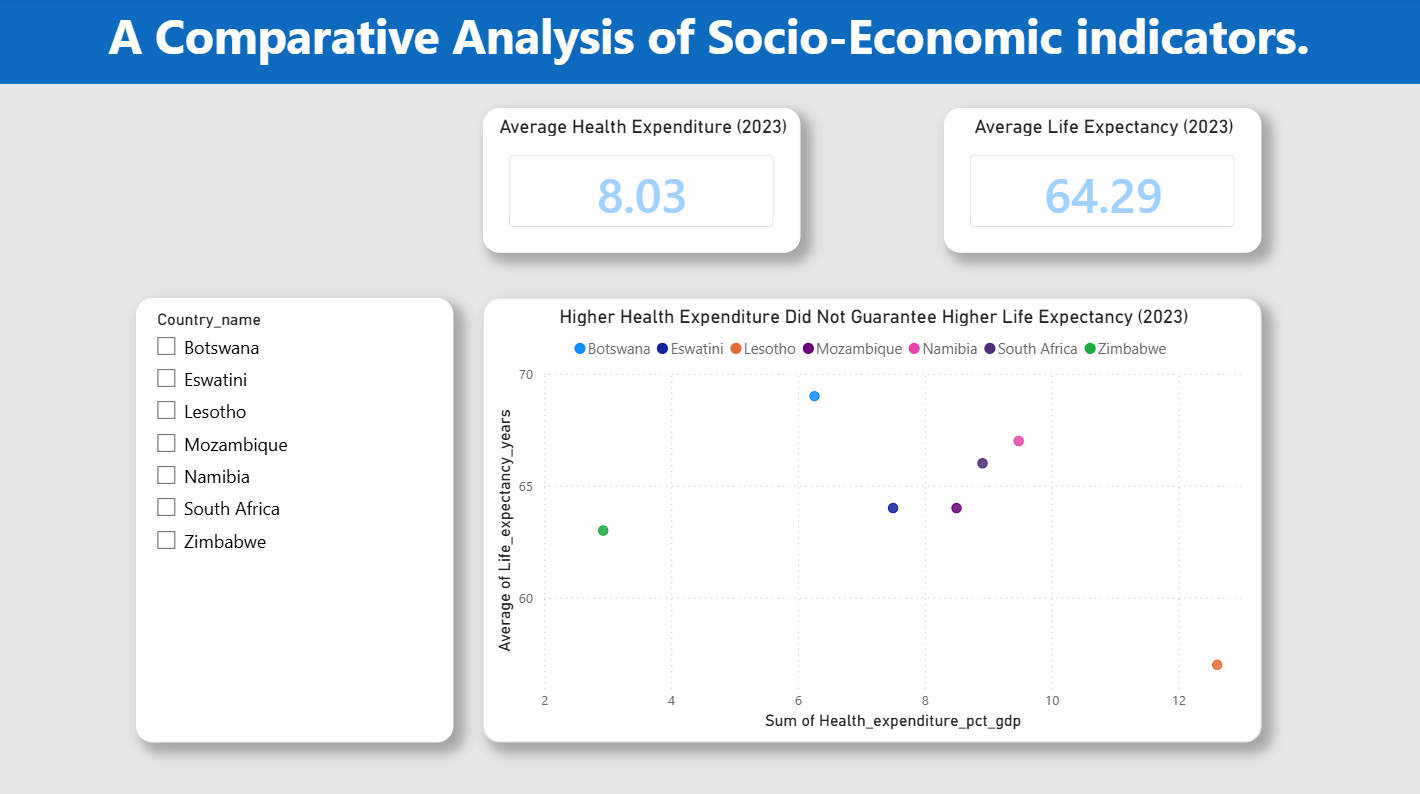

Layout of this report page (visuals, bound fields, positions):
{"tool":"powerbi","page":{"name":"Regional Health Expenditure","canvas":[1280,720],"ordinal":1},"visuals":[{"type":"textbox","box":[0,0,1280,77.8],"z":0},{"type":"cardVisual","title":"Average Health Expenditure (2023)","fields":{"Data":["Avg(population_health.Health_expenditure_pct_gdp)"]},"box":[437.2,100,285,130.3],"z":1000},{"type":"scatterChart","title":"Higher Health Expenditure Did Not Guarantee Higher Life Expectancy (2023)","fields":{"X":["Sum(population_health.Health_expenditure_pct_gdp)"],"Y":["Avg(population_health.Life_expectancy_years)"],"Series":["countries.Country_name"]},"box":[437.2,270.2,699.3,398.8],"z":2000},{"type":"slicer","fields":{"Values":["countries.Country_name"]},"box":[125.9,269.8,285,399],"z":3000},{"type":"cardVisual","title":"Average Life Expectancy (2023)","fields":{"Data":["Avg(population_health.Life_expectancy_years)"]},"box":[851.5,100,285,130.3],"z":4000}]}

Visuals, with their boxes in screenshot pixels (x1, y1, x2, y2), scaled from the page's 1280x720 canvas onto the 1420x794 screenshot:
textbox: Rect(0, 0, 1419, 86)
"Average Health Expenditure (2023)" cardVisual: Rect(485, 110, 801, 254)
"Higher Health Expenditure Did Not Guarantee Higher Life Expectancy (2023)" scatterChart: Rect(485, 298, 1261, 738)
slicer - countries.Country_name: Rect(140, 298, 456, 738)
"Average Life Expectancy (2023)" cardVisual: Rect(945, 110, 1261, 254)
